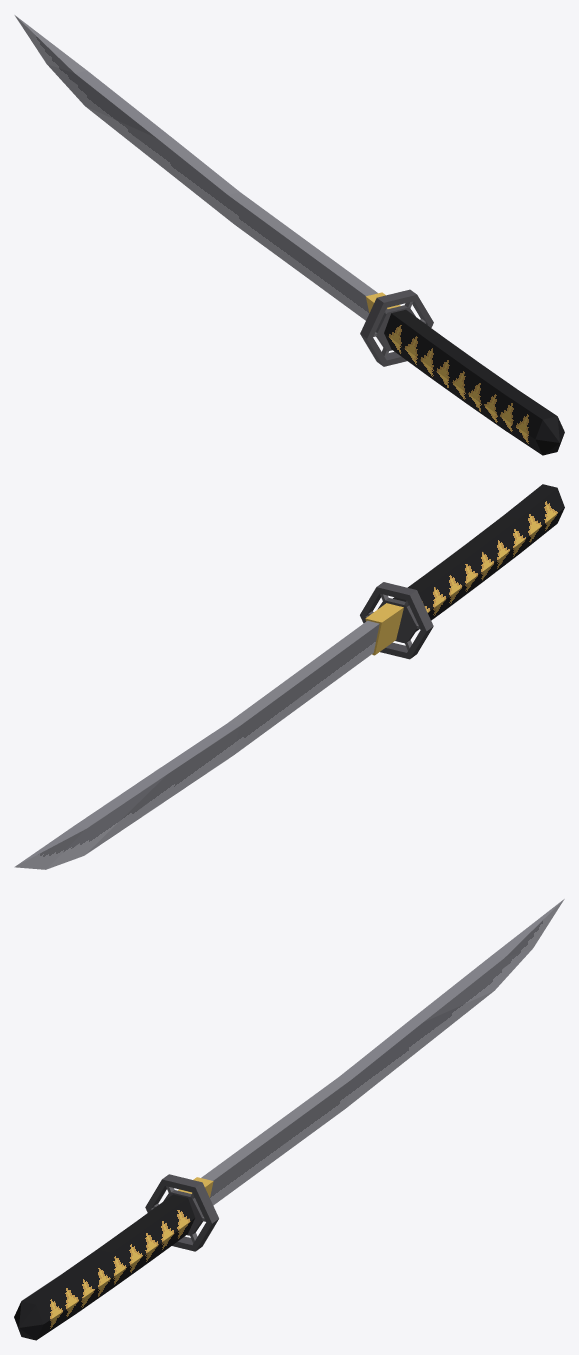
3 views of the same model, one above another, from view 1: azimuth 30°, elevation 25°; view 2: azimuth 150°, elevation 25°; view 3: azimuth 330°, elevation 25° (orthographic).
Parts seen in each view (by area): view 1: lamina, cabo, tube; view 2: lamina, cabo, tube, cuboid, cylinder; view 3: lamina, cabo, tube.
Boxes of the visible parts, x1=… form: lamina: x1=14, y1=15, x2=377, y2=320; cabo: x1=384, y1=309, x2=564, y2=455; tube: x1=360, y1=289, x2=433, y2=366; lamina: x1=14, y1=620, x2=379, y2=869; cabo: x1=393, y1=484, x2=564, y2=631; tube: x1=360, y1=582, x2=433, y2=659; cuboid: x1=365, y1=603, x2=403, y2=655; cylinder: x1=377, y1=598, x2=417, y2=643; lamina: x1=201, y1=899, x2=564, y2=1205; cabo: x1=14, y1=1194, x2=195, y2=1340; tube: x1=145, y1=1174, x2=218, y2=1251.
Bounding box in the file's own units: 0.3415 × 0.3217 × 4.82.
Materials: 1 (1 with a texture image).
